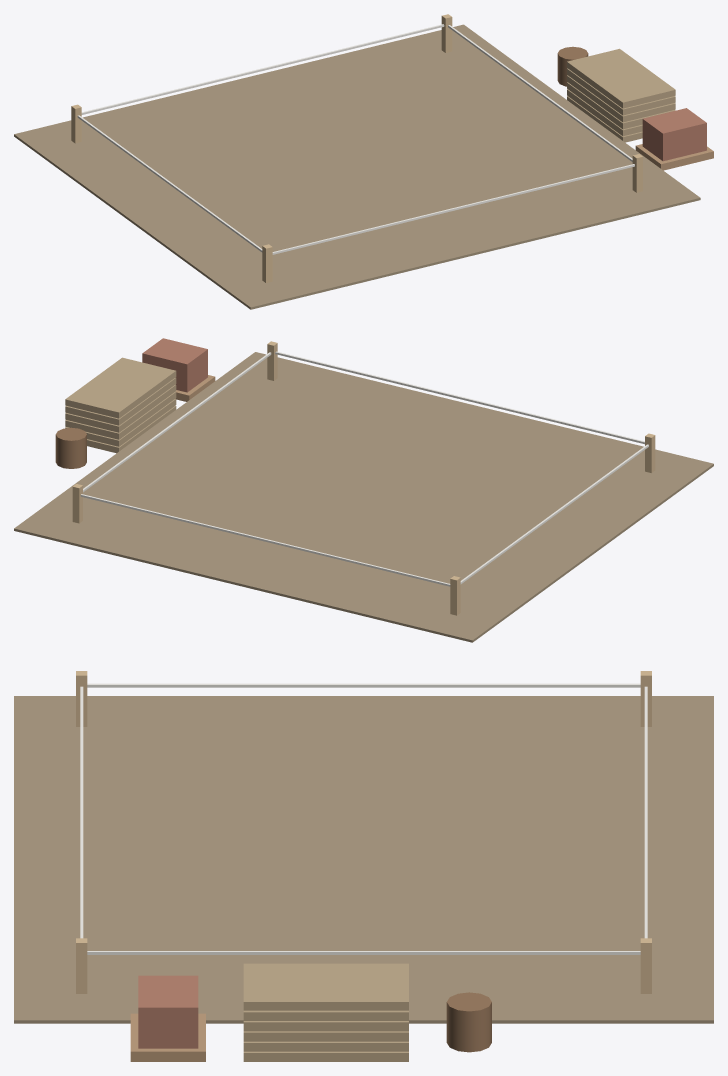
The model's file is garage_site_0.glb.
3 views of the same model, one above another, from view 1: azimuth 30°, elevation 25°; view 2: azimuth 150°, elevation 25°; view 3: azimuth 270°, elevation 25° (orthographic). The views are drawn at different scales.
Parts seen in each view (by area): view 1: body; view 2: body; view 3: body.
Part boxes in pixels (bbox=[...]): body: bbox=[14, 14, 713, 309]; body: bbox=[14, 338, 713, 642]; body: bbox=[14, 671, 713, 1061].
Bounding box in the file's own units: 2.28 × 0.176 × 1.86.
